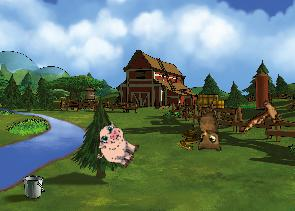eagle: (240, 87, 289, 143)
owl: (185, 104, 226, 157)
pig: (89, 119, 144, 172)
